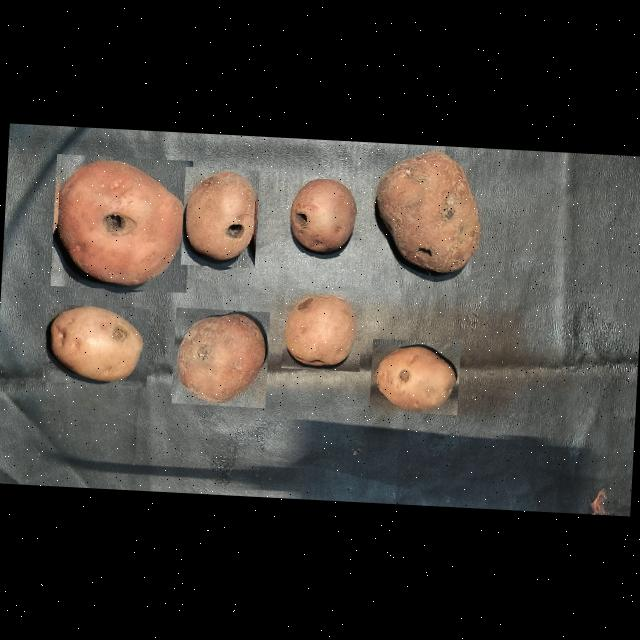Defected potato: (50, 154, 194, 293)
Diseased-fungal potato: (369, 144, 487, 279), (172, 307, 270, 408), (42, 304, 150, 387), (180, 166, 260, 268), (369, 338, 461, 416), (282, 288, 364, 372), (284, 174, 362, 256)
